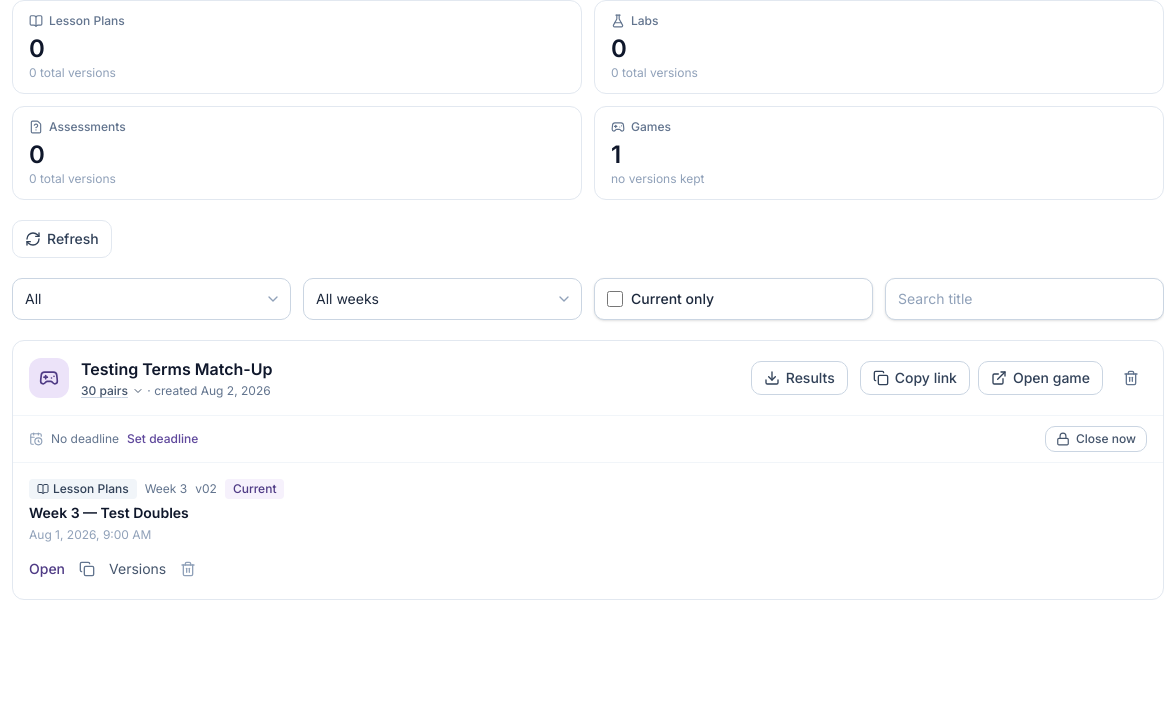
it: generated content › filters to games alone
Click the dropdown named "Filter by type" at (152, 299), box [12,278,291,320]
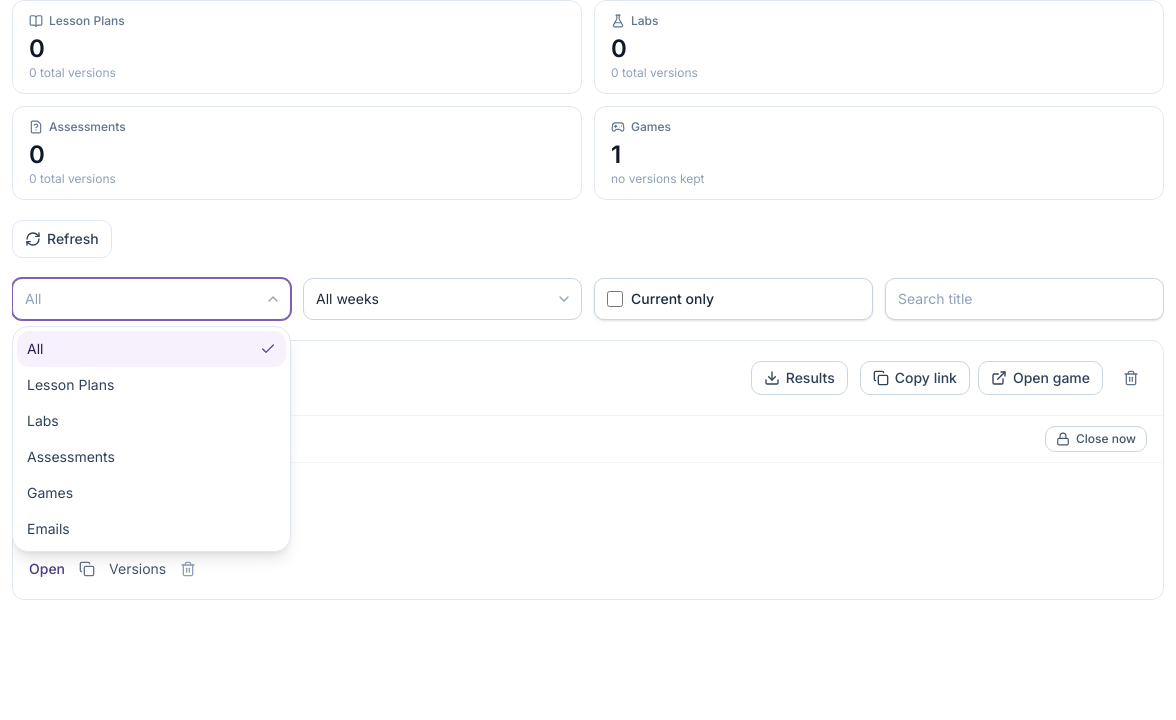
Click the option "Games" at (50, 492), box [27,484,73,501]
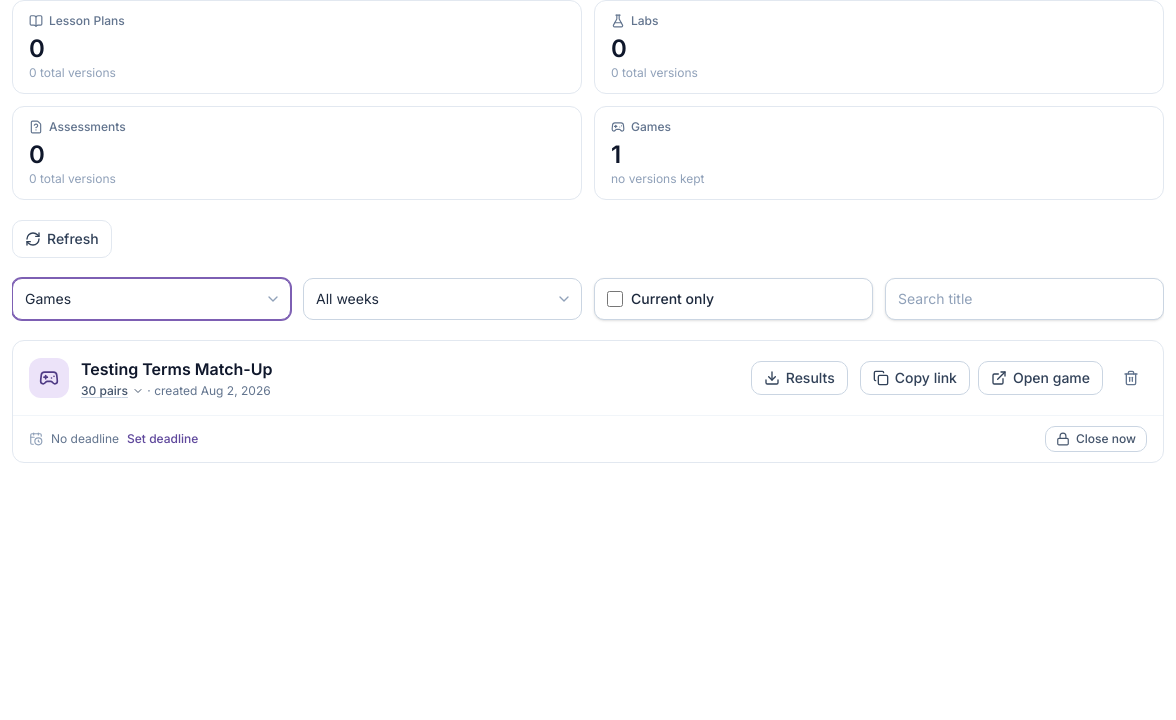
Expected: the heading "Testing Terms Match-Up" is shown, [81,357,272,381]
Now the text titled "Week 3 — Test Doubles" is gone
